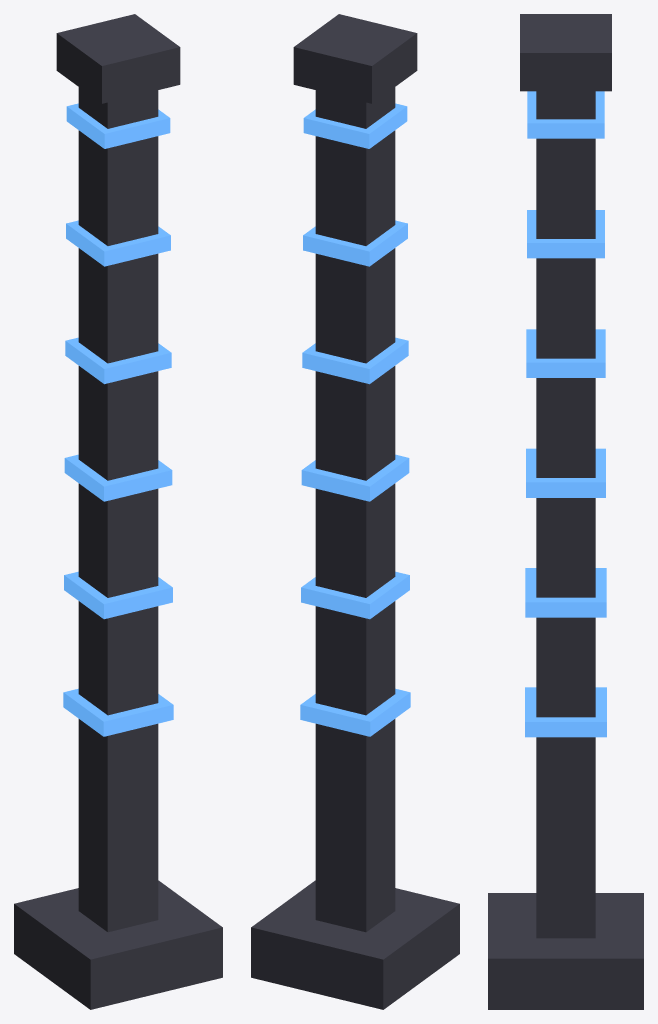
The model's file is runtime.glb.
3 views of the same model, side by side, from view 1: azimuth 30°, elevation 25°; view 2: azimuth 150°, elevation 25°; view 3: azimuth 270°, elevation 25° (orthographic).
Parts seen in each view (by area): view 1: neon_pylon_post_nocol, neon_pylon_band_blue_noshadow_nocol; view 2: neon_pylon_post_nocol, neon_pylon_band_blue_noshadow_nocol; view 3: neon_pylon_post_nocol, neon_pylon_band_blue_noshadow_nocol.
Part boxes in pixels (<box>): neon_pylon_post_nocol: <box>14,14,222,1009</box>; neon_pylon_band_blue_noshadow_nocol: <box>63,103,173,736</box>; neon_pylon_post_nocol: <box>251,14,459,1009</box>; neon_pylon_band_blue_noshadow_nocol: <box>300,103,410,736</box>; neon_pylon_post_nocol: <box>488,14,643,1009</box>; neon_pylon_band_blue_noshadow_nocol: <box>525,91,606,737</box>.
Bounding box in the file's own units: 1.1 × 7.36 × 1.1.
